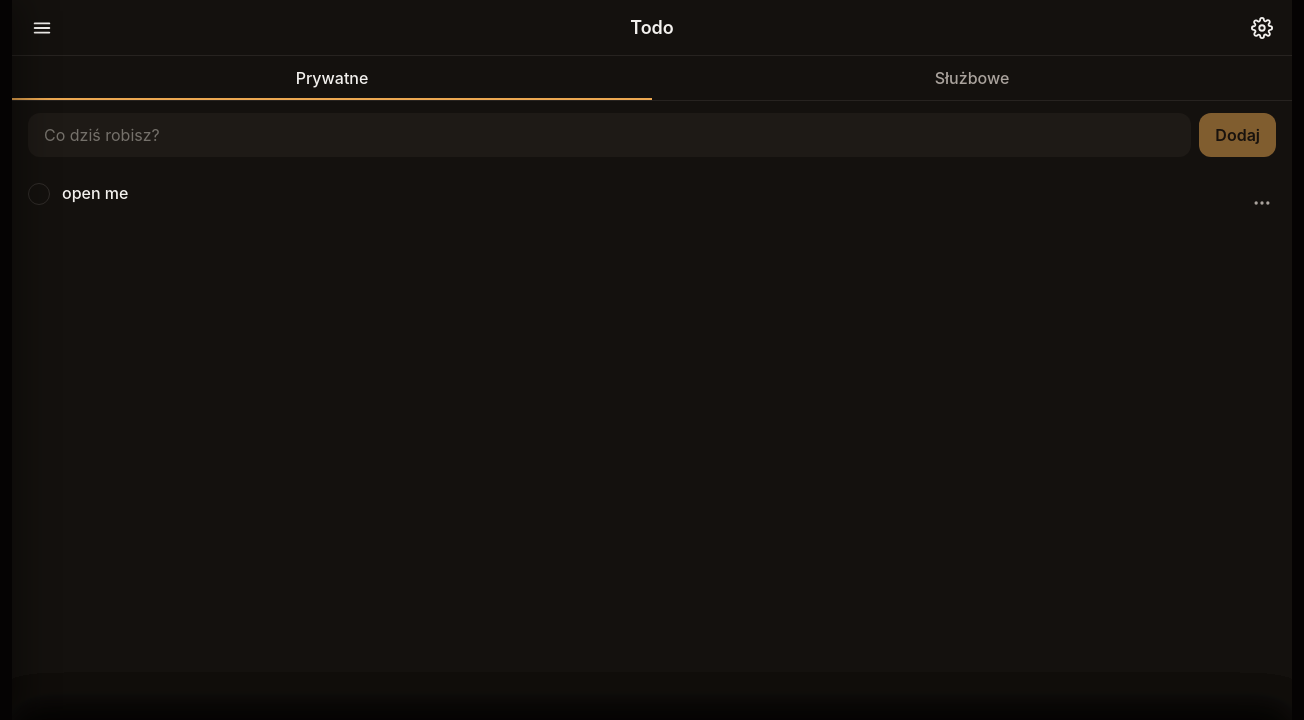
it: MainList › overflow menu, edit, and delete › clicking ••• opens a menu containing Edytuj, Przenieś, Przypomnij, Usuń
Click the button named "Więcej akcji" at (1262, 203), box [1240,181,1284,225]
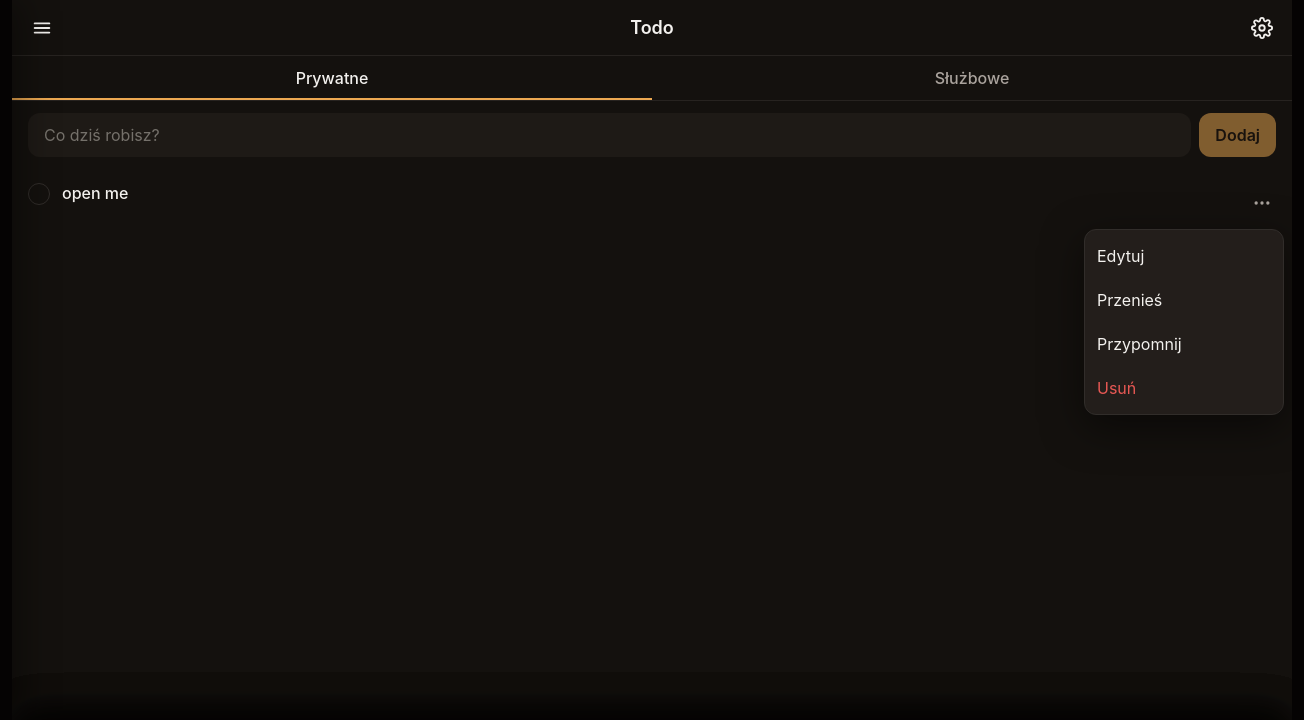
Now the menu item "Edytuj" is shown, box [1085,234,1283,278]
Now the menu item "Przenieś" is shown, box [1085,278,1283,322]
Now the menu item "Przypomnij" is shown, box [1085,322,1283,366]
